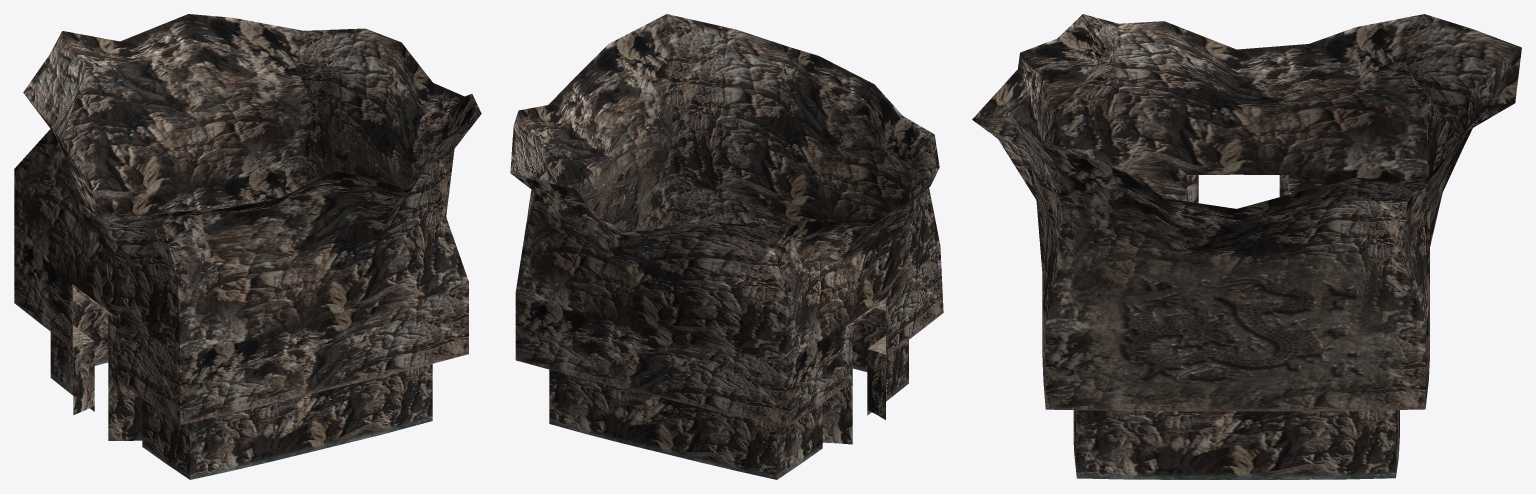
3 renders of one model, left to right at view 1: azimuth 30°, elevation 25°; view 2: azimuth 150°, elevation 25°; view 3: azimuth 270°, elevation 25°, orthographic. The views are drawn at different scales.
Parts seen in each view (by area): view 1: Plane02y; view 2: Plane02y; view 3: Plane02y.
Boxes of the visible parts, x1,y1,x2,y2 form: Plane02y: (14, 14, 481, 479); Plane02y: (510, 14, 943, 479); Plane02y: (972, 14, 1521, 479).
Bounding box in the file's own units: 605 × 483 × 674.
